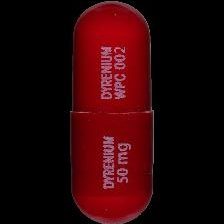65197-002: (0, 0, 224, 224)
